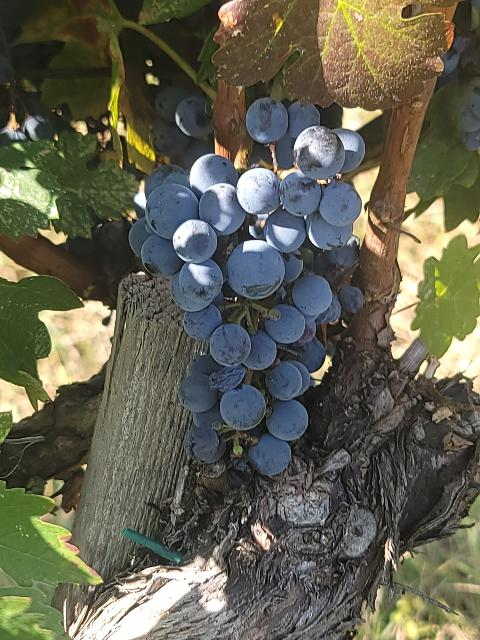grapes: (129, 99, 365, 475)
